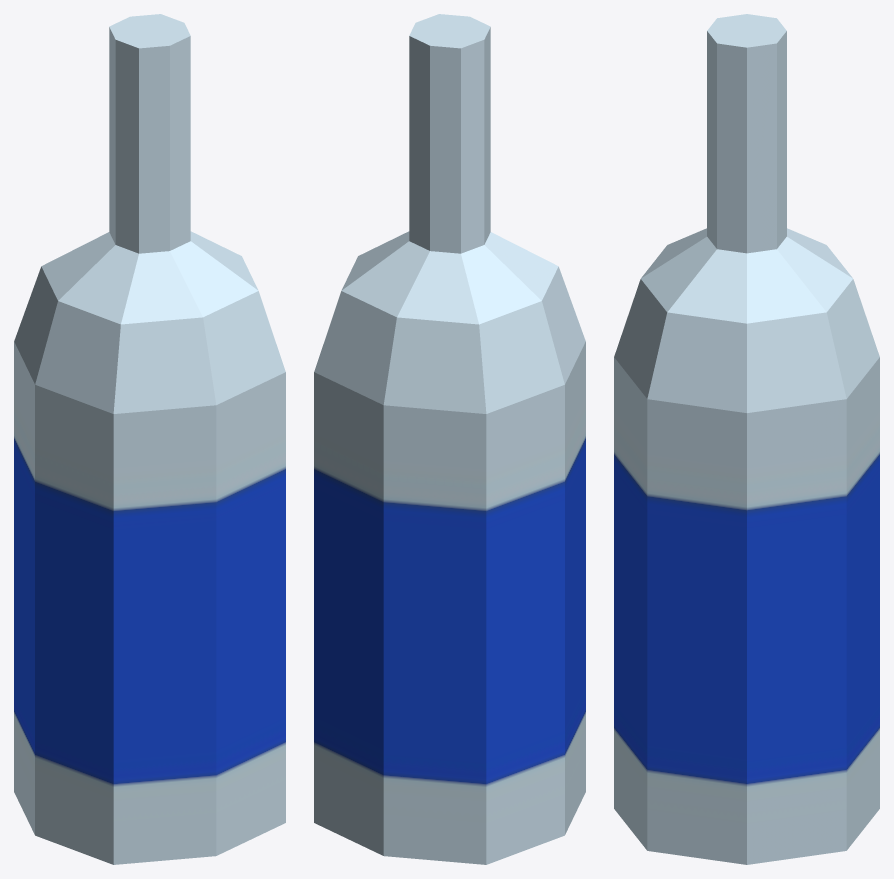
The model's file is vodka_bottle1.glb.
The picture shows the model from 3 angles, left to right: view 1: azimuth 30°, elevation 25°; view 2: azimuth 150°, elevation 25°; view 3: azimuth 270°, elevation 25°; orthographic projection.
Visible parts, largest first — view 1: Cube; view 2: Cube; view 3: Cube.
Part boxes in pixels (x1,y1,x2,y2): Cube: (14, 14, 285, 864); Cube: (314, 14, 585, 864); Cube: (614, 14, 879, 864).
Bounding box in the file's own units: 2 × 6.46 × 2.
1 material, 1 textured.
